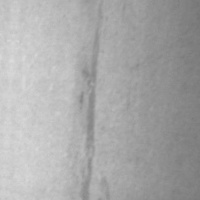inclusion: (72, 0, 110, 174), (75, 148, 114, 199)
